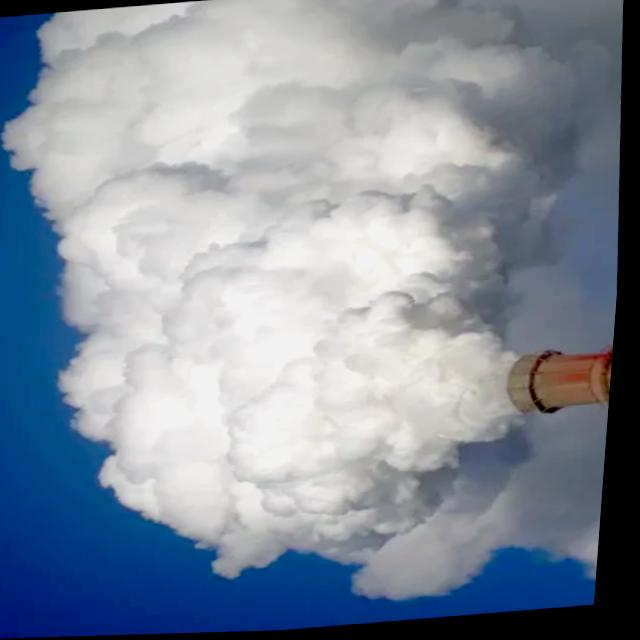no_helmet: (0, 0, 553, 622)
